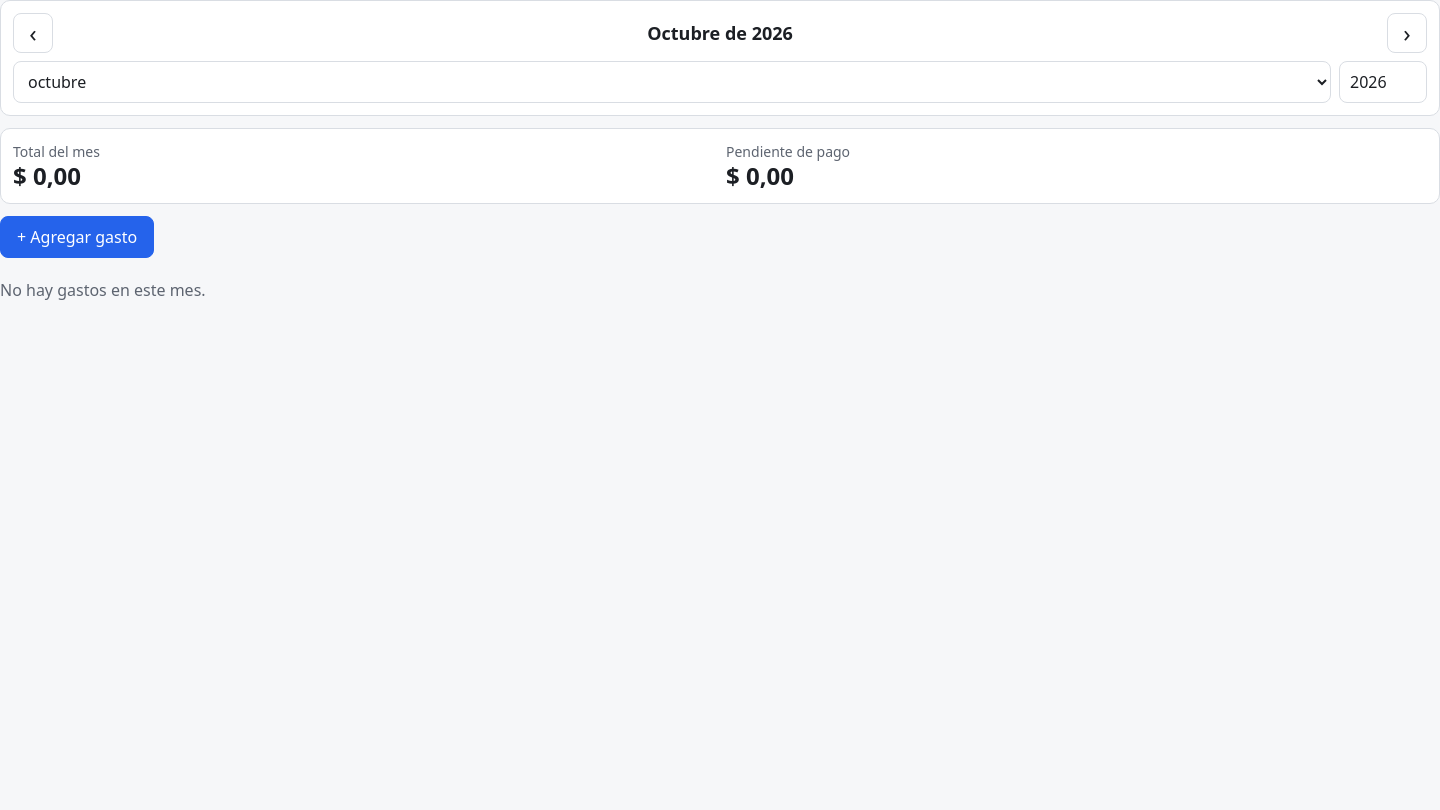
Test: ExpensesPage › agrega un gasto al mes visualizado y lo muestra en la lista
The width and height of the screenshot is (1440, 810).
Click the button named "Mes siguiente" at (1407, 33), box [1387,13,1427,53]
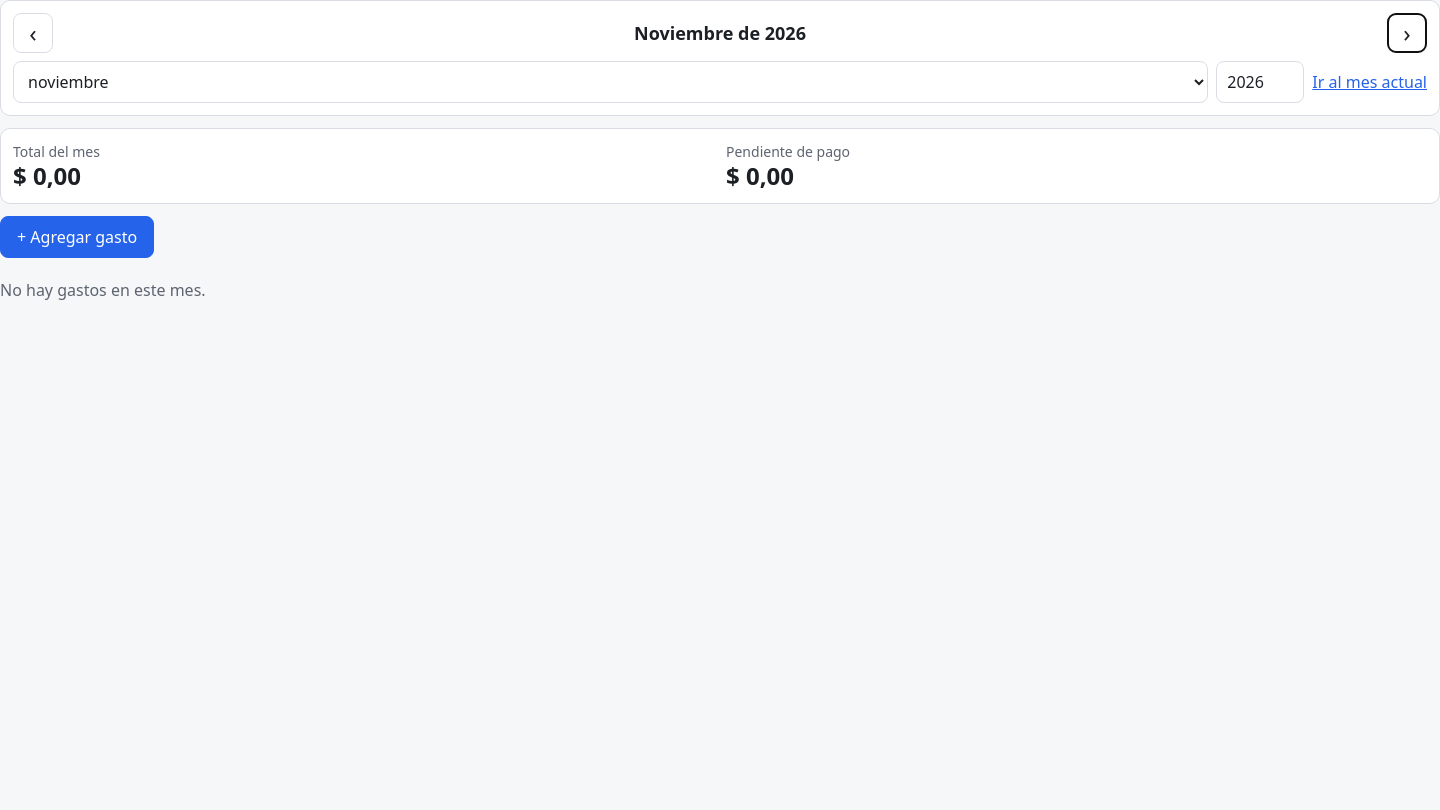
Click the button named "Mes siguiente" at (1407, 33), box [1387,13,1427,53]
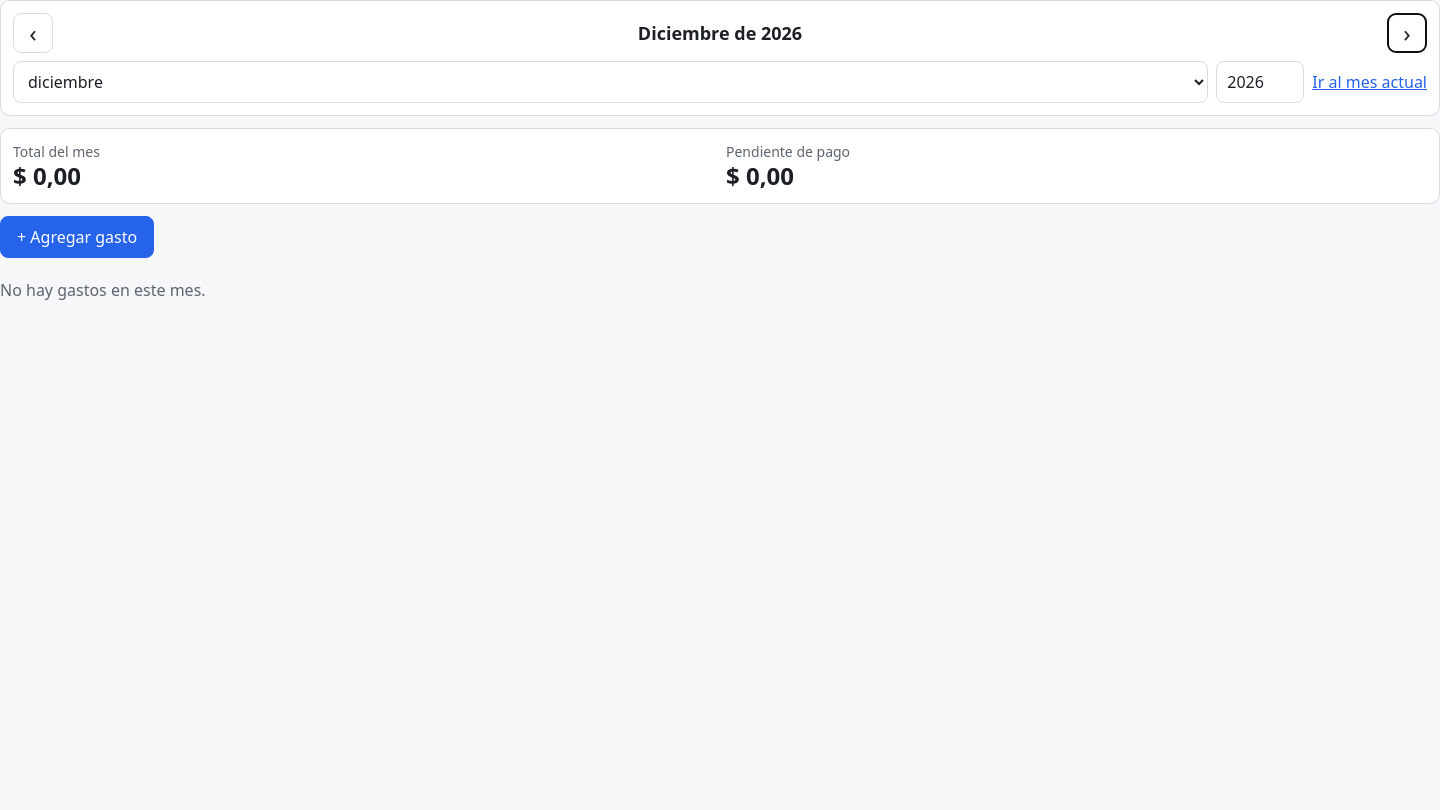
Click the button "+ Agregar gasto" at (77, 237), box [0,216,154,258]
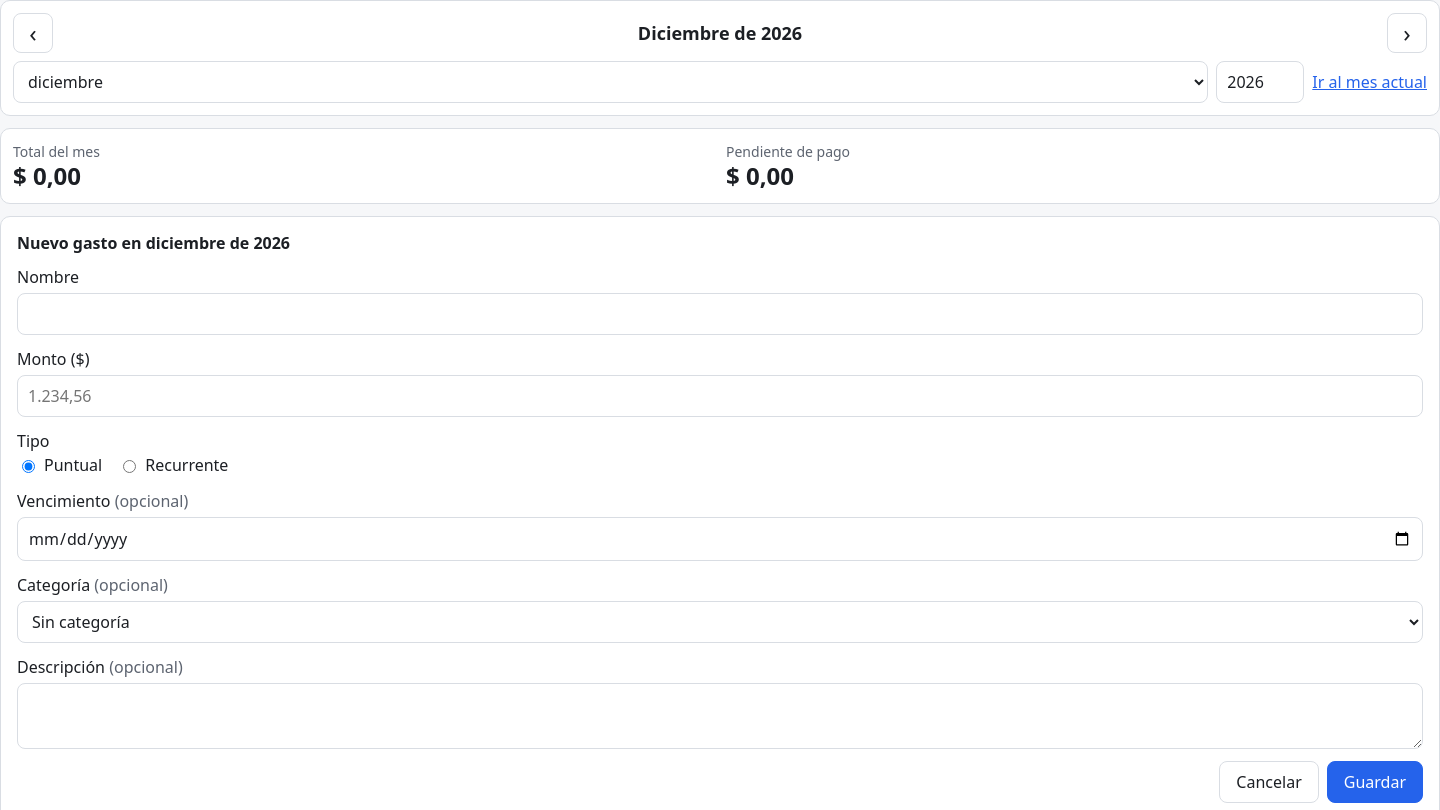
Now the heading "Nuevo gasto en diciembre de 2026" is shown, box [17,232,290,254]
Type "Seguro" into the field labelled "Nombre" at (720, 314), box [17,293,1423,335]
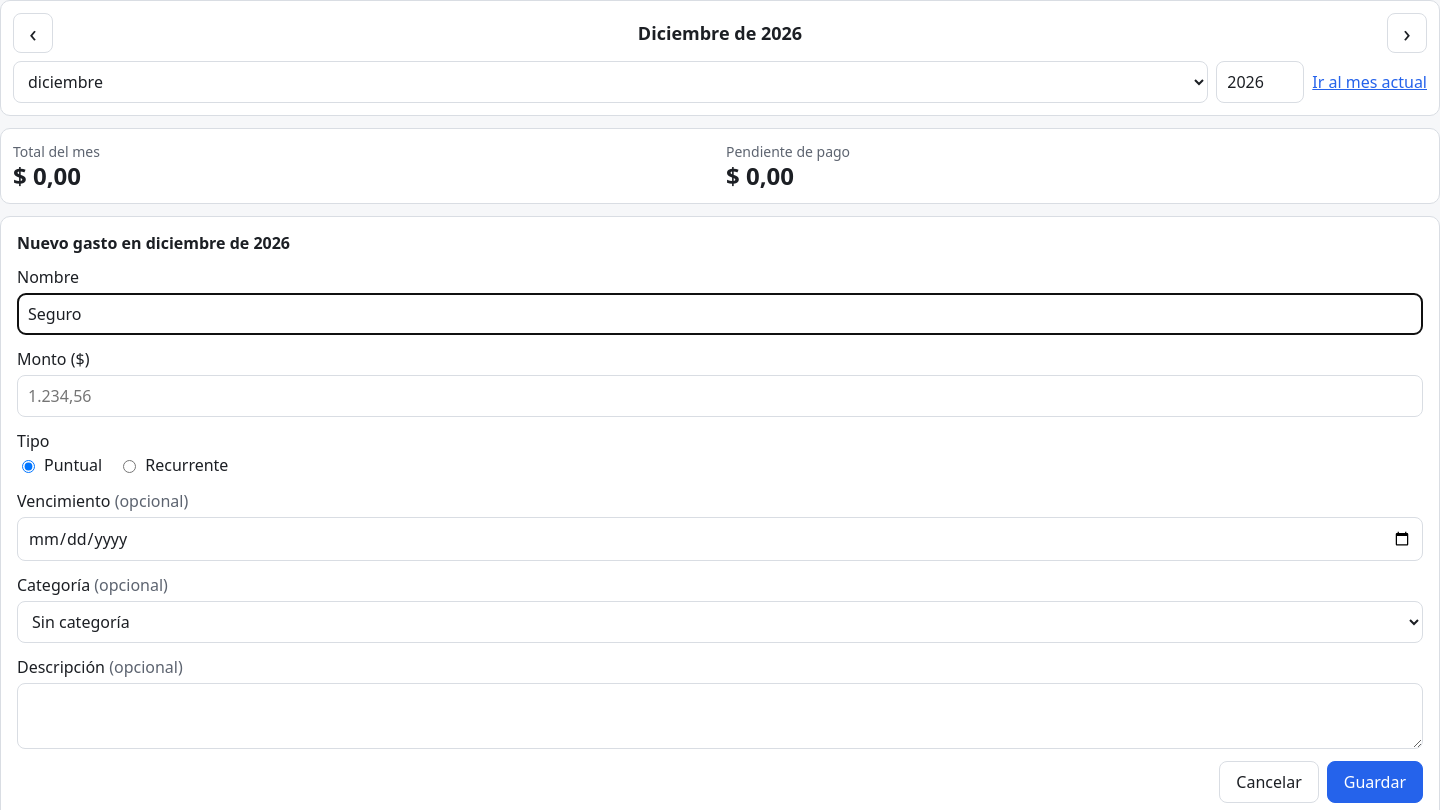
Type "5.000" into the field labelled "Monto ($)" at (720, 396), box [17,375,1423,417]
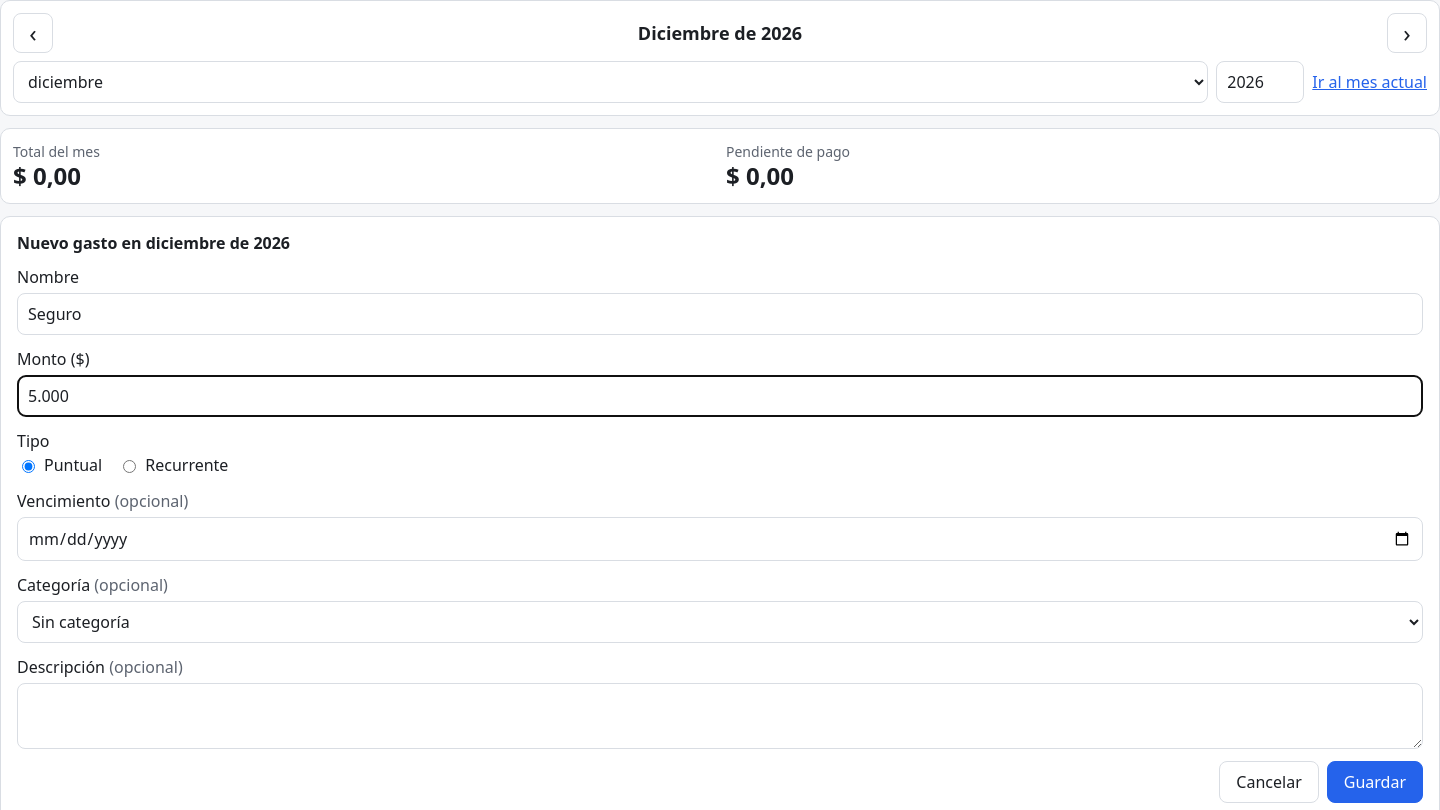
Click the button "Guardar" at (1375, 782), box [1327,761,1423,803]
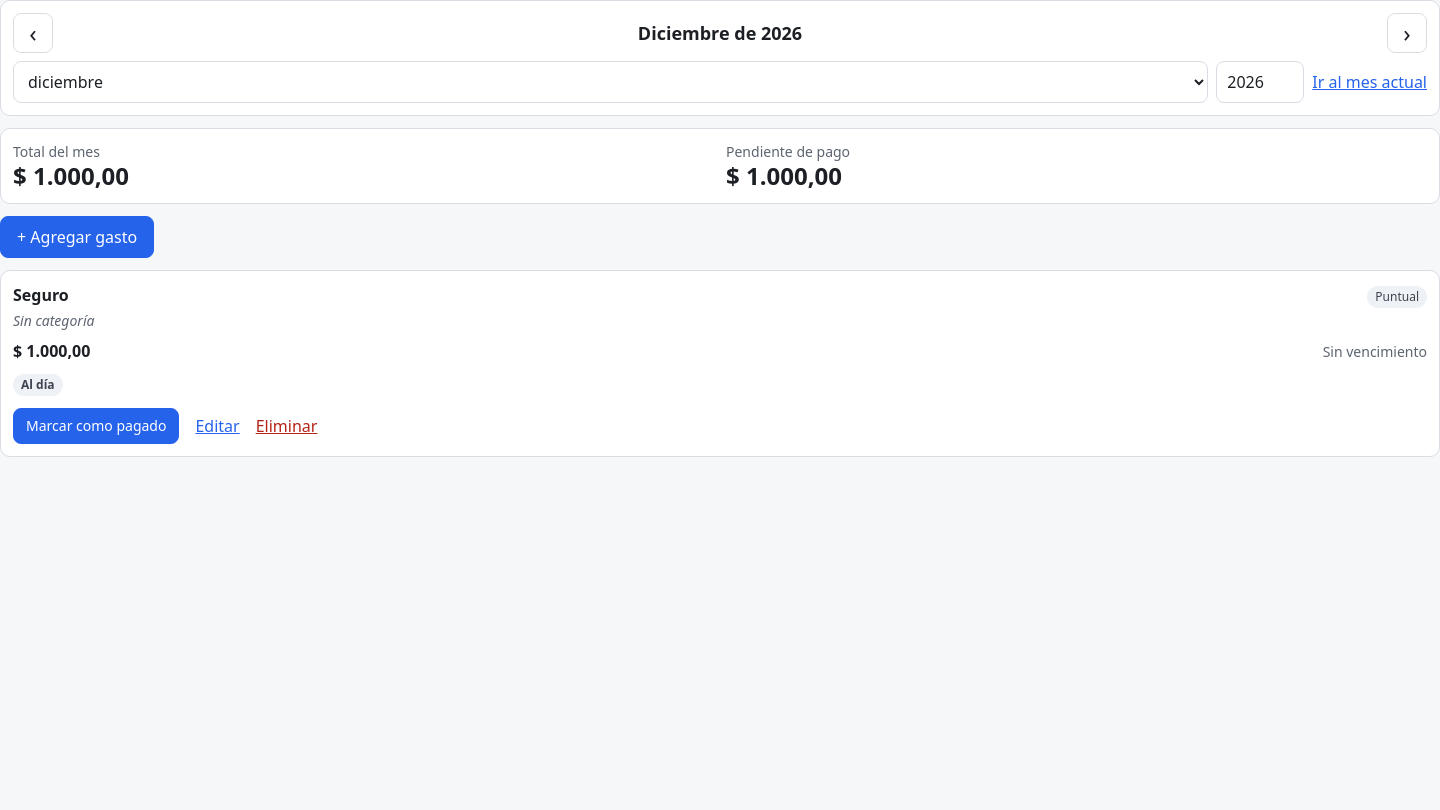
Now the text "Seguro" is shown, box [13,283,69,307]
Now the heading "Nuevo gasto" is gone
